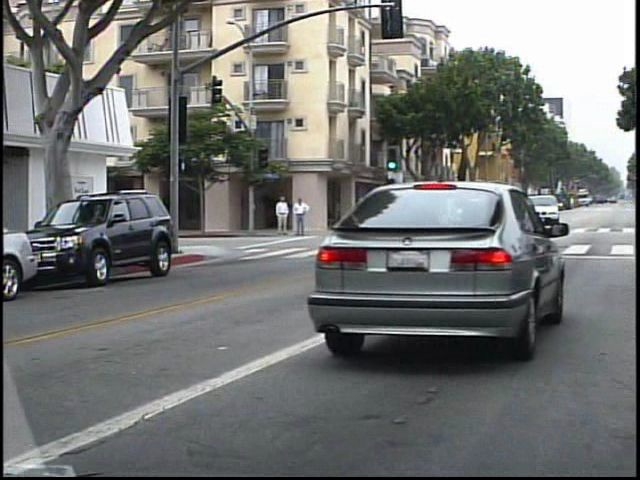person: (287, 194, 306, 239), (271, 192, 289, 236)
